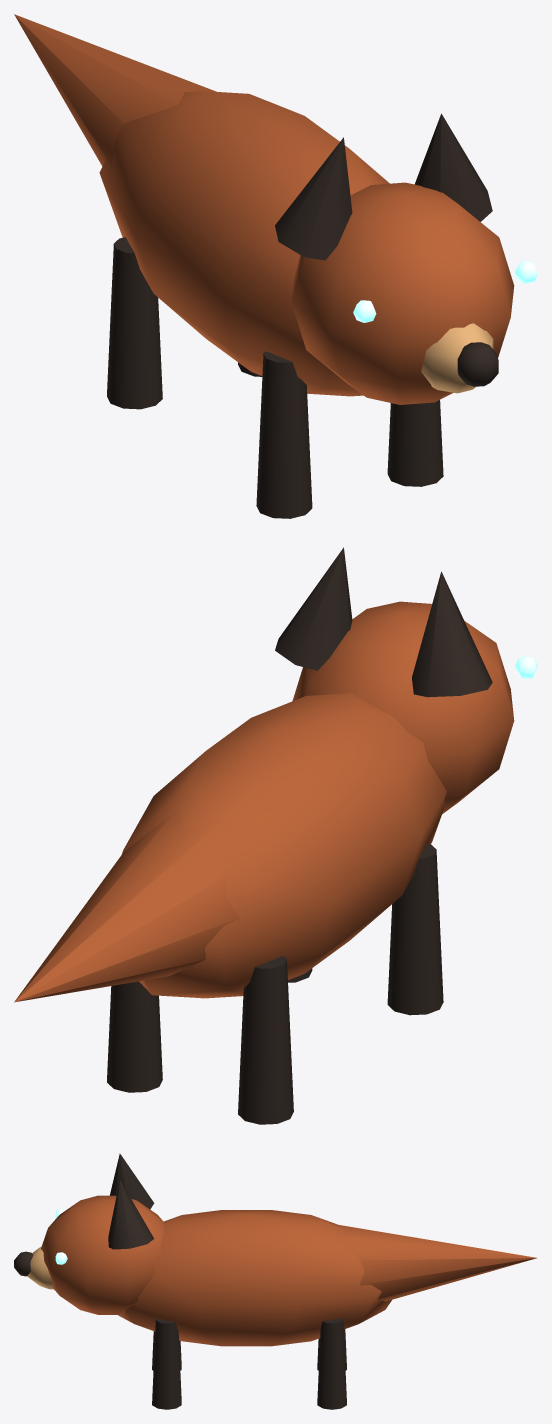
The model's file is patch-fox-lod0.glb.
3 renders of one model, top to bottom at view 1: azimuth 30°, elevation 25°; view 2: azimuth 150°, elevation 25°; view 3: azimuth 270°, elevation 25°, orthographic. The views are drawn at different scales.
Parts seen in each view (by area): view 1: MESH_patch_fox_fur, MESH_patch_fox_dark, MESH_patch_fox_furLight, MESH_patch_fox_eye; view 2: MESH_patch_fox_fur, MESH_patch_fox_dark; view 3: MESH_patch_fox_fur, MESH_patch_fox_dark, MESH_patch_fox_furLight.
Part boxes in pixels (left/top/right/bottom): MESH_patch_fox_fur: left=14, top=14, right=514, bottom=404; MESH_patch_fox_dark: left=107, top=113, right=498, bottom=518; MESH_patch_fox_furLight: left=421, top=323, right=493, bottom=393; MESH_patch_fox_eye: left=353, top=261, right=537, bottom=322; MESH_patch_fox_fur: left=14, top=601, right=514, bottom=1002; MESH_patch_fox_dark: left=107, top=547, right=492, bottom=1124; MESH_patch_fox_fur: left=41, top=1195, right=536, bottom=1346; MESH_patch_fox_dark: left=14, top=1153, right=346, bottom=1409; MESH_patch_fox_furLight: left=27, top=1247, right=53, bottom=1289.
Bounding box in the file's own units: 1.37 × 2.49 × 5.39.
